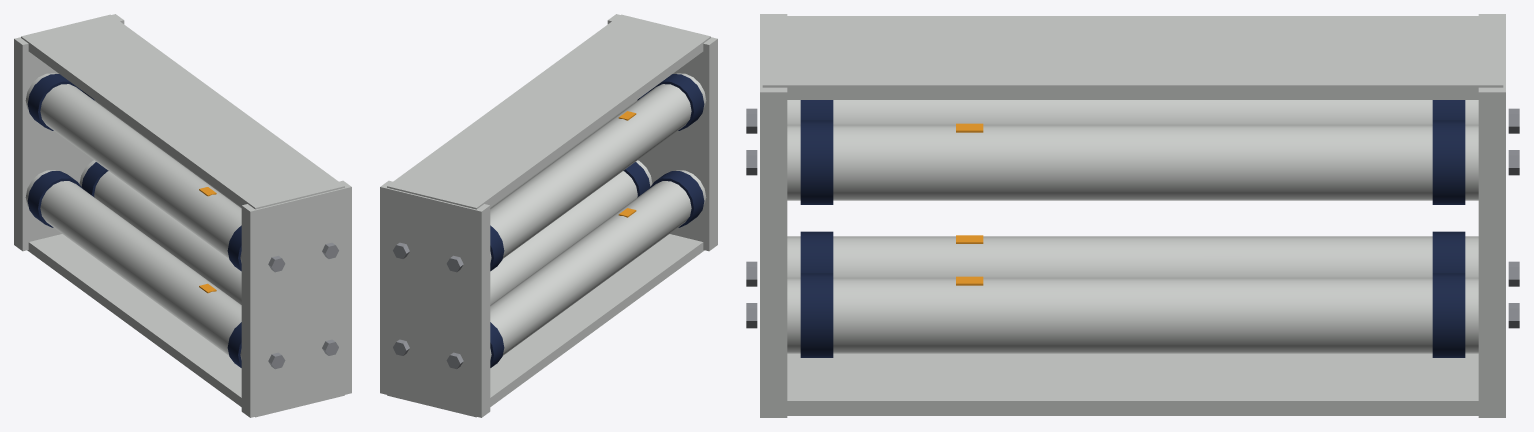
Rendered from s200_cells.obj.
3 renders of one model, left to right at view 1: azimuth 30°, elevation 25°; view 2: azimuth 150°, elevation 25°; view 3: azimuth 270°, elevation 25°, orthographic. The views are drawn at different scales.
Visible parts, largest first — view 1: s200_cells; view 2: s200_cells; view 3: s200_cells.
Part boxes in pixels (x1,y1,x2,y2): s200_cells: (14,14,351,417); s200_cells: (380,14,717,417); s200_cells: (746,14,1519,417).
Size of the model in its own units: 0.34 by 0.67 by 1.42.
